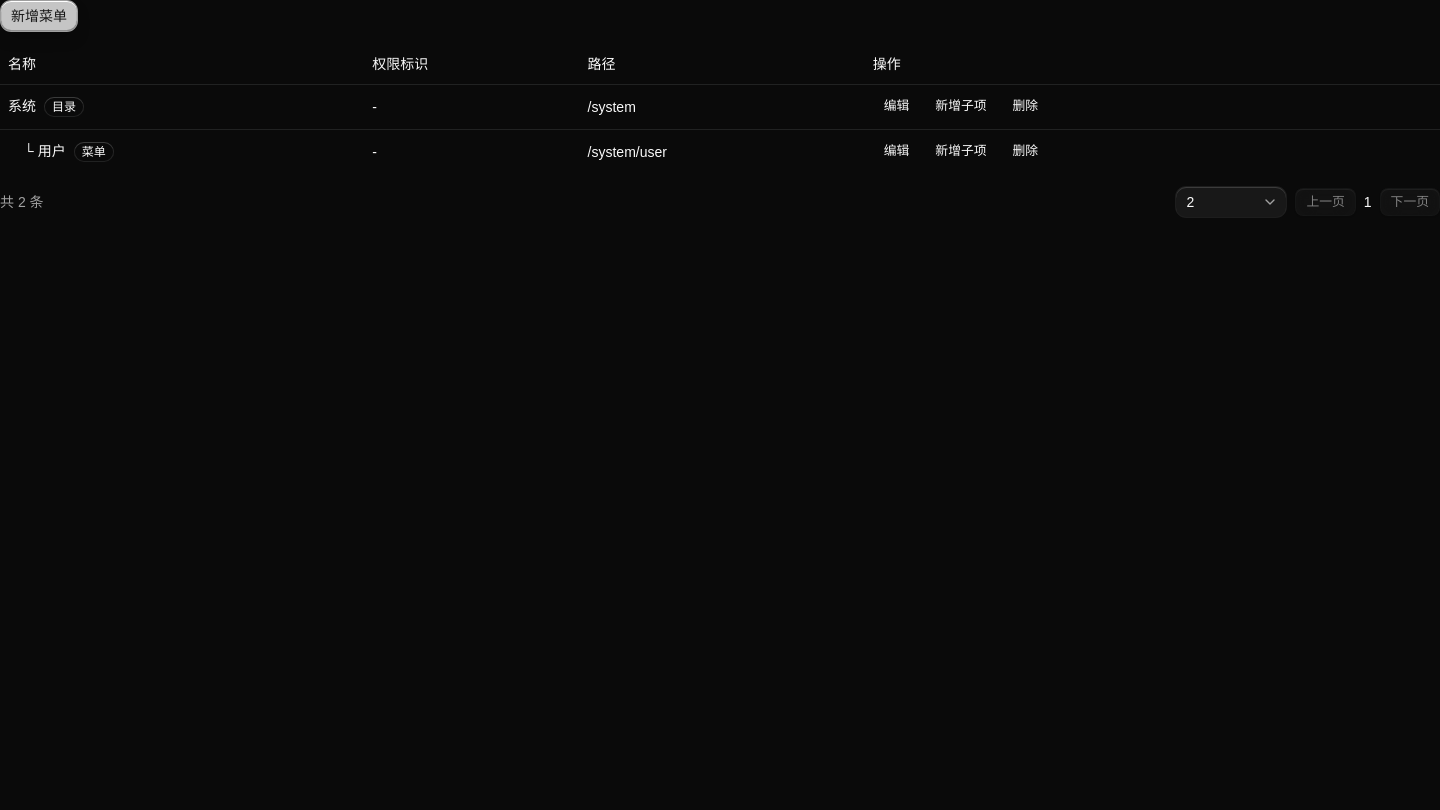
Scenario: Menus page › button type requires permission identifier
Expected: the text "系统" is shown, [8,98,36,114]
Click the button "新增菜单" at (39, 16), box [0,0,78,32]
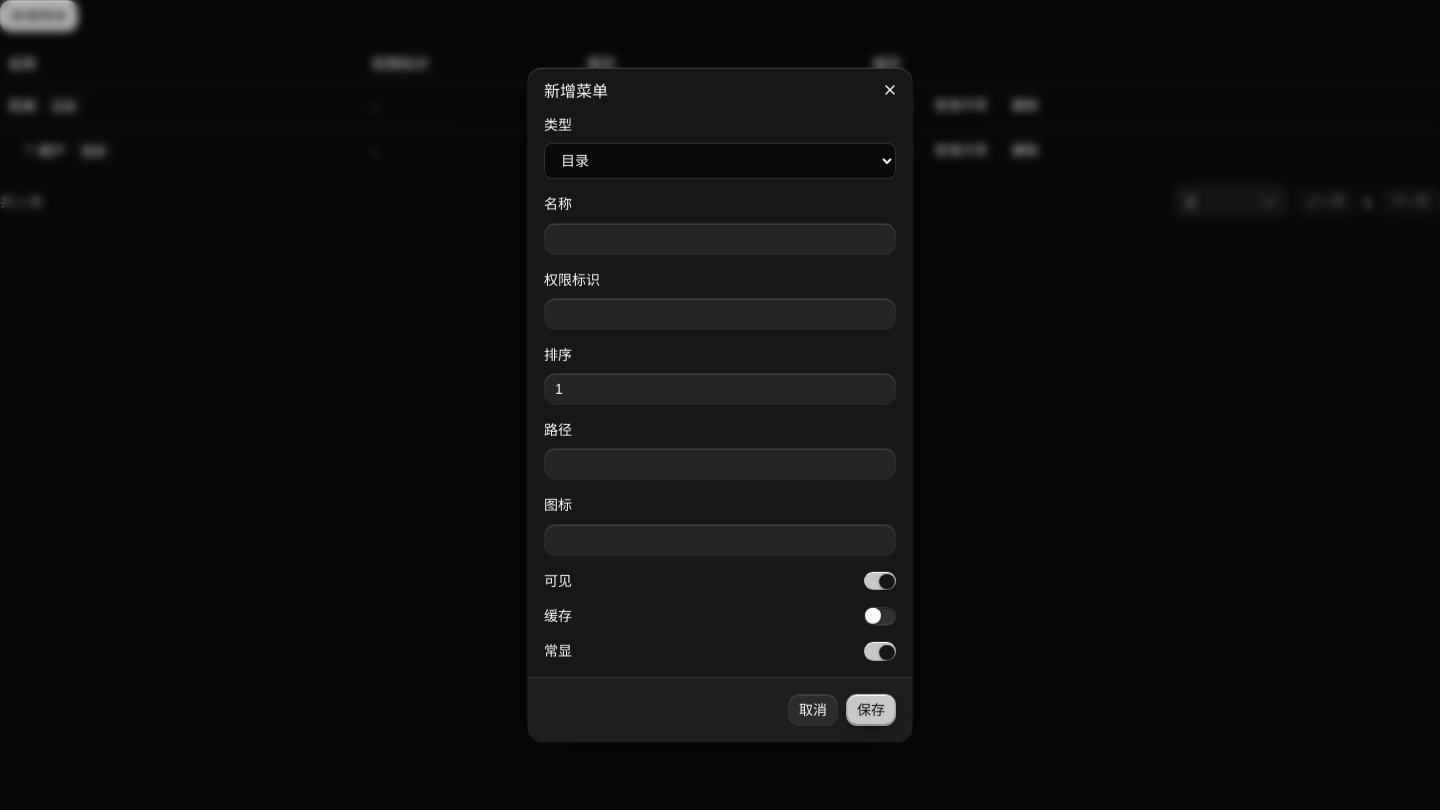
Type "btn" into the field labelled "名称" at (720, 238), box [544,222,896,254]
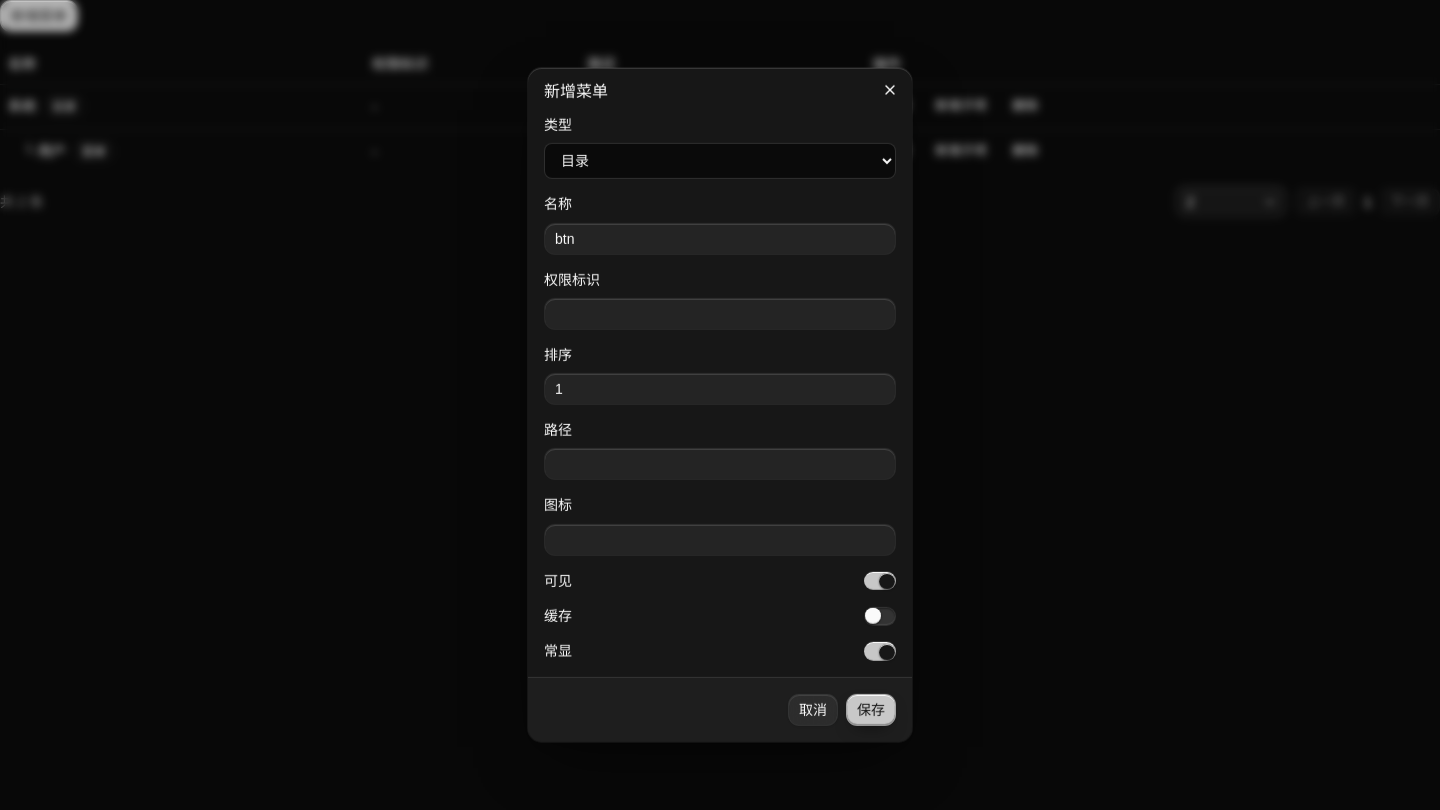
Note: 类型选按钮（3）但不填权限标识
Select "按钮" in the dropdown labelled "类型" at (720, 161), box [544,143,896,179]
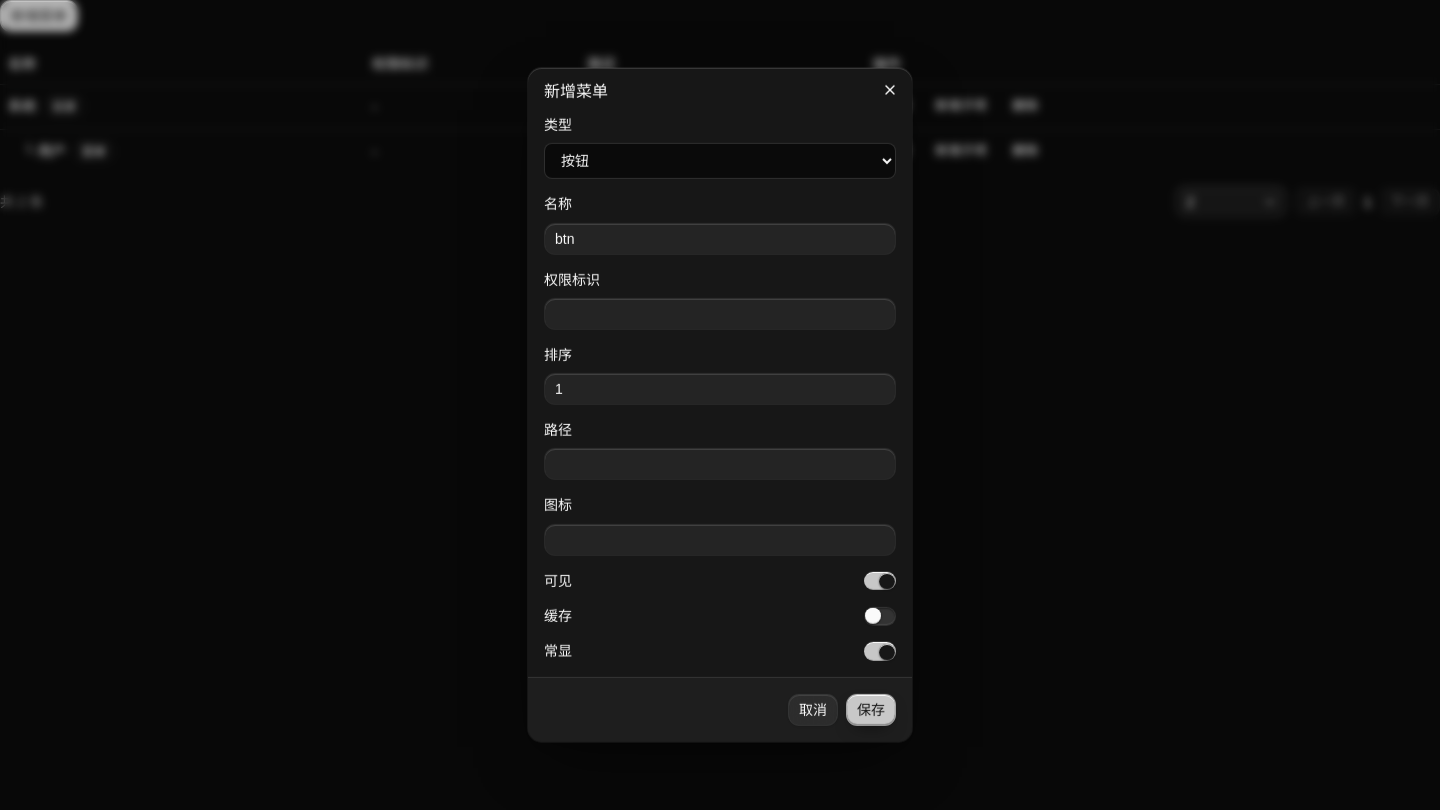
Click the button "保存" at (871, 710), box [846,694,896,726]
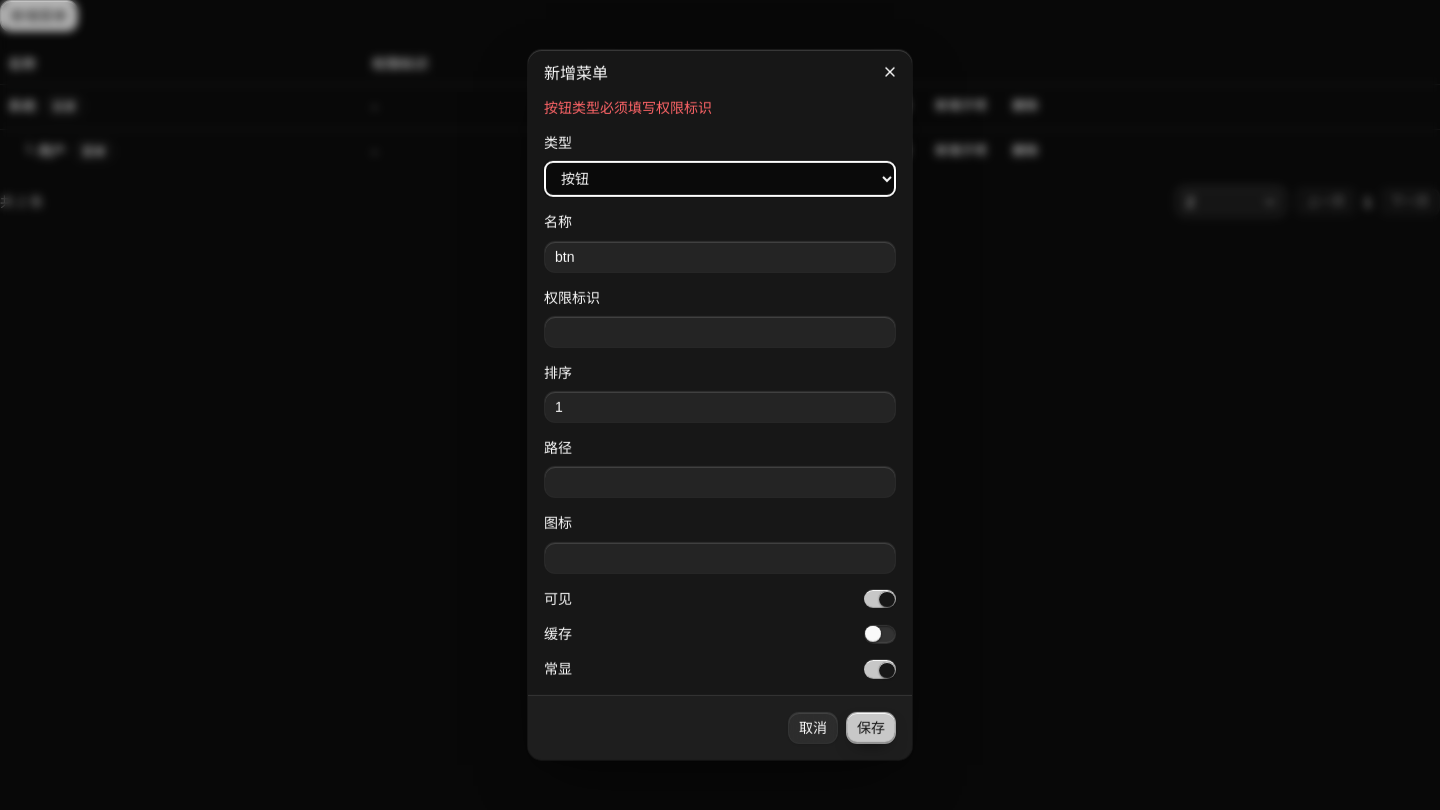
Expected: the text "按钮类型必须填写权限标识" is shown, [544,100,712,116]
